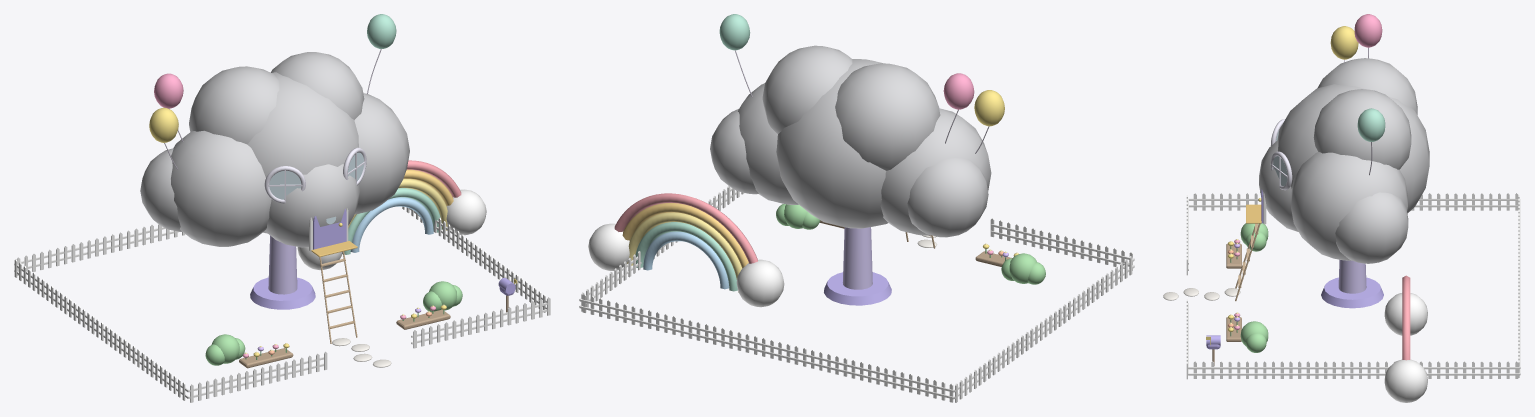
File: building_sky_L08.glb
3 renders of one model, left to right at view 1: azimuth 30°, elevation 25°; view 2: azimuth 150°, elevation 25°; view 3: azimuth 270°, elevation 25°, orthographic. The views are drawn at different scales.
Visible parts, largest first — view 1: Body, sky_L8; view 2: Body, sky_L8; view 3: Body, sky_L8.
Boxes of the visible parts, <box> form: Body: <box>140,14,486,343</box>; sky_L8: <box>14,206,550,402</box>; Body: <box>588,14,1004,307</box>; sky_L8: <box>579,185,1134,402</box>; Body: <box>1235,14,1429,402</box>; sky_L8: <box>1163,193,1520,379</box>.
Size of the model in its own units: 28.7 by 17.1 by 22.64.
